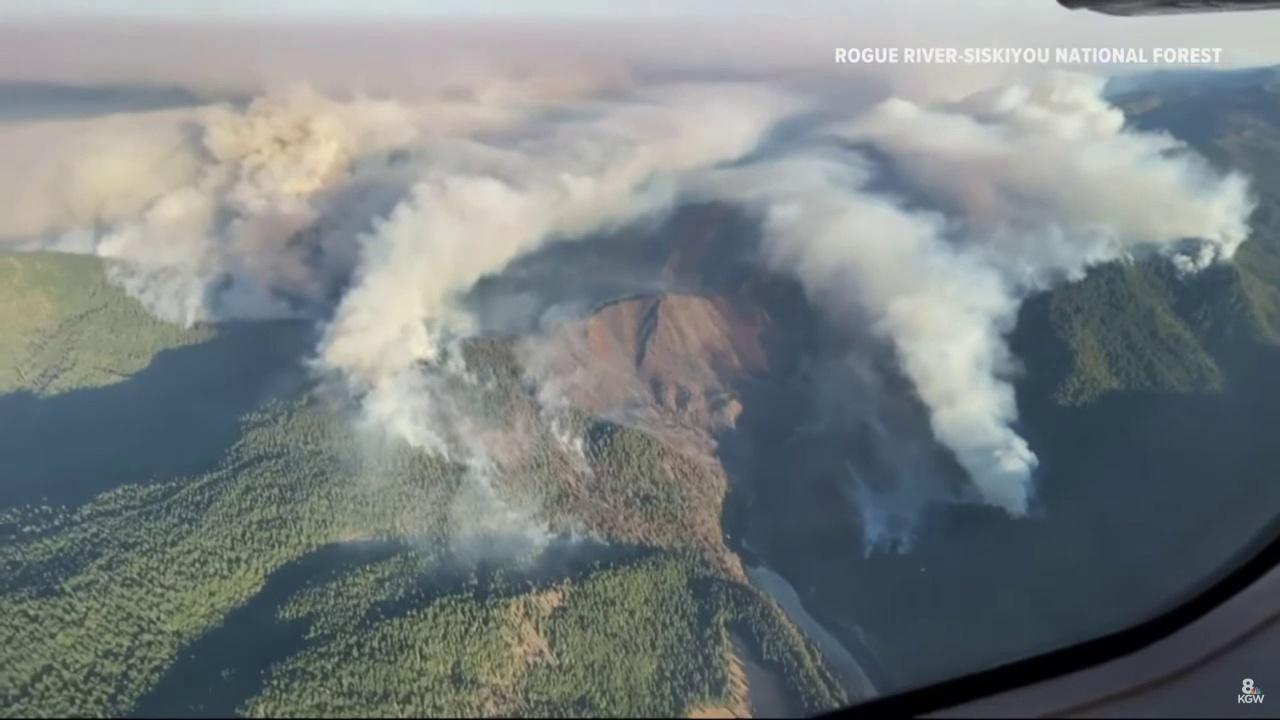smoke: (0, 0, 1263, 588)
